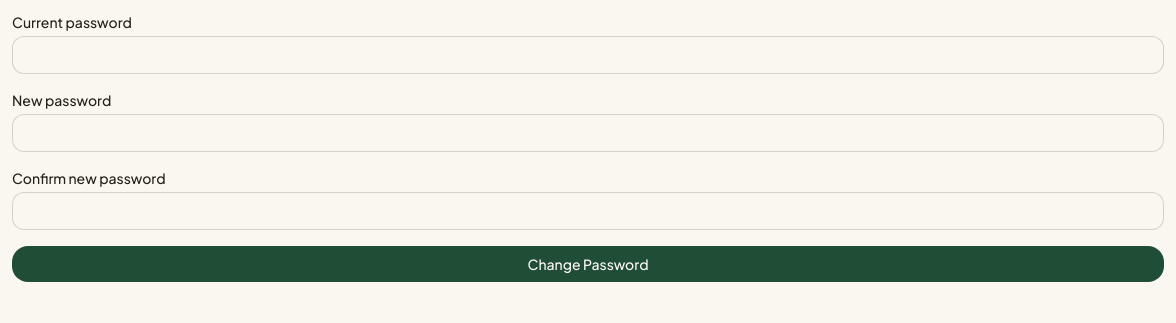
Test case: ChangePasswordForm › rejects a confirmation that does not match the new password
The image size is (1176, 323).
Type "CurrentPass@123" into the password field labelled "Current password". click: (588, 55)
box: [12,36,1164,74]
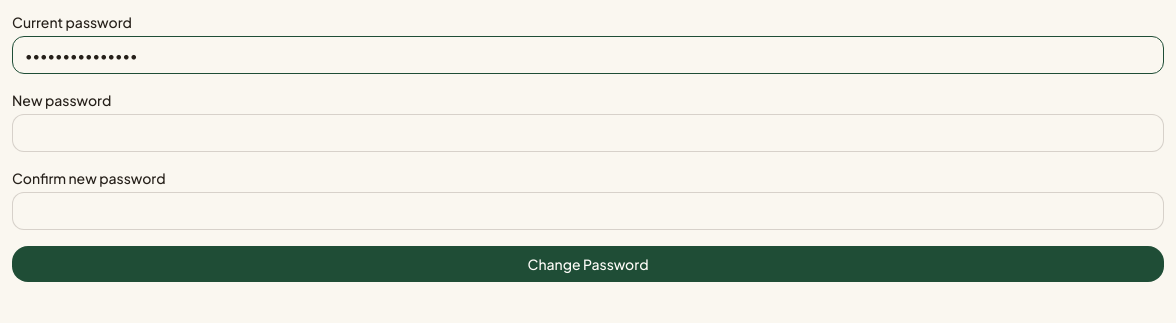
Type "ValidPassword@123" into the password field labelled "New password". click: (588, 133)
box: [12,114,1164,152]
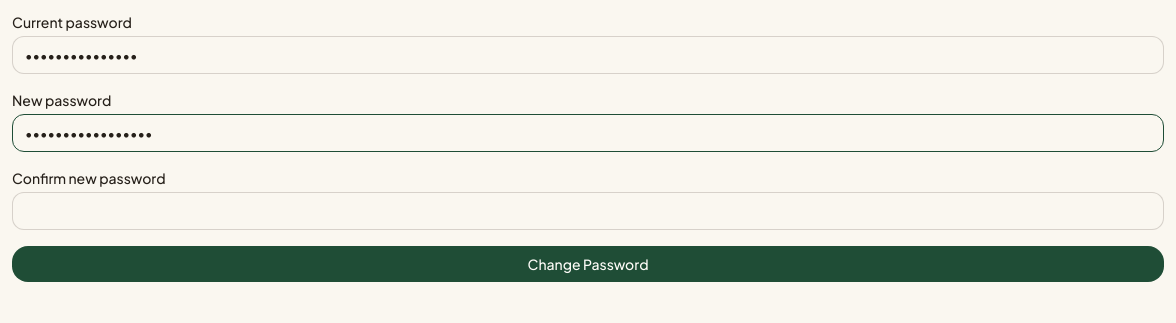
Type "DifferentPassword@123" into the password field labelled "Confirm new password". click: (588, 211)
box: [12,192,1164,230]
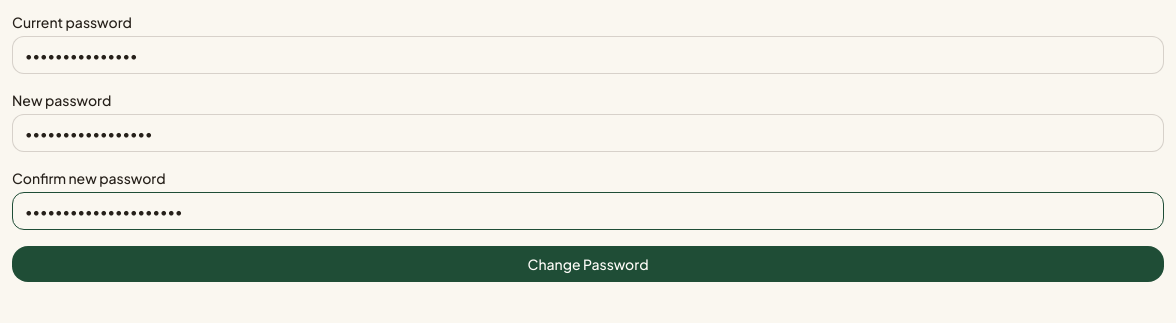
Click the button "Change Password". click: (588, 264)
box: [12,246,1164,282]
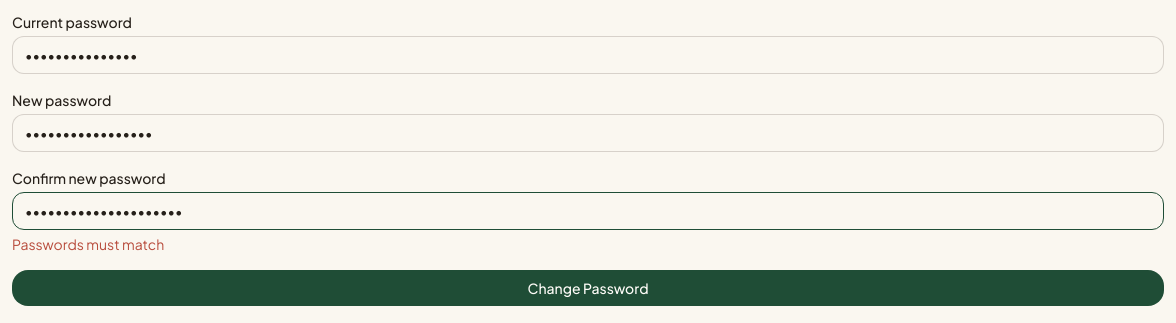
Expected: the text "Passwords must match" is shown, [12,235,164,253]
